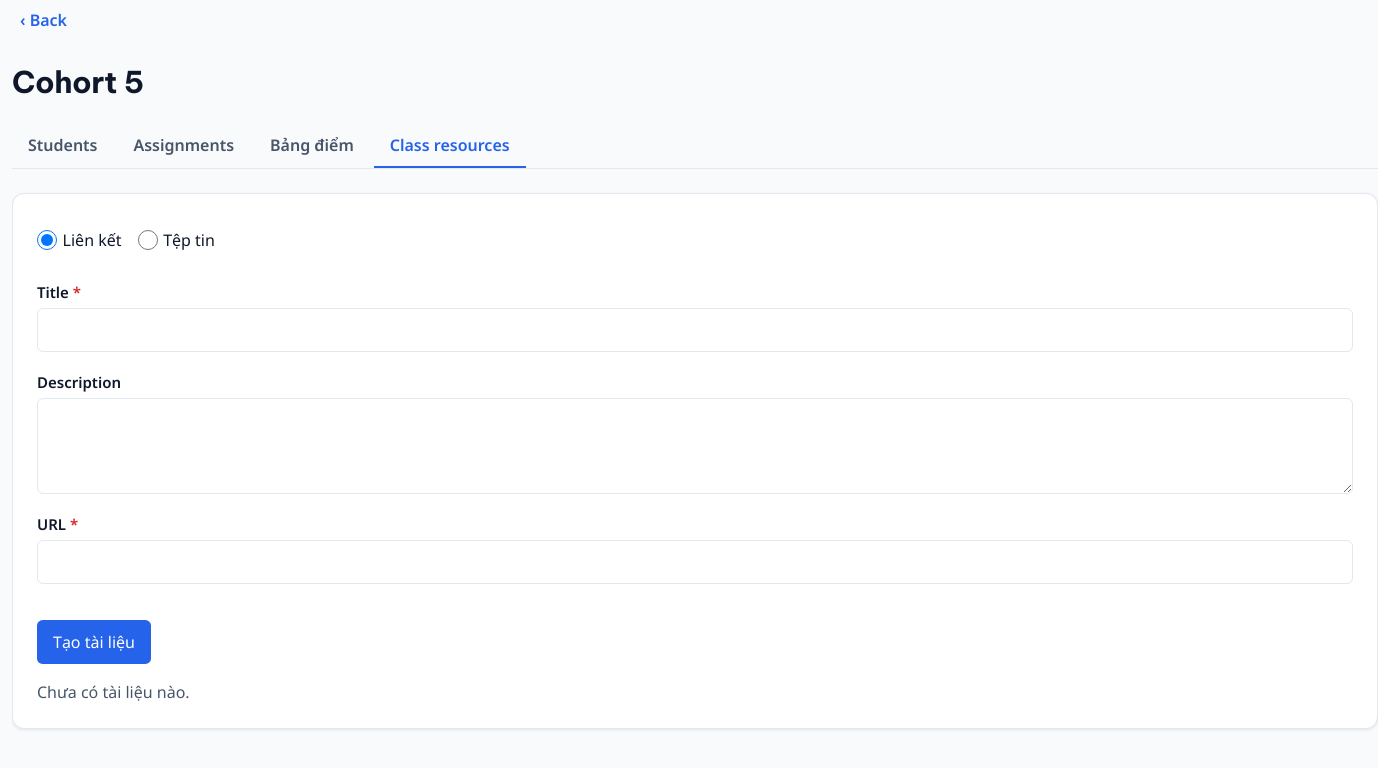
Teacher class resources › creates a resource and reloads the list
Type "Slide deck" into the field labelled "Title" at (695, 330), box top-left (37, 308), bottom-right (1353, 352)
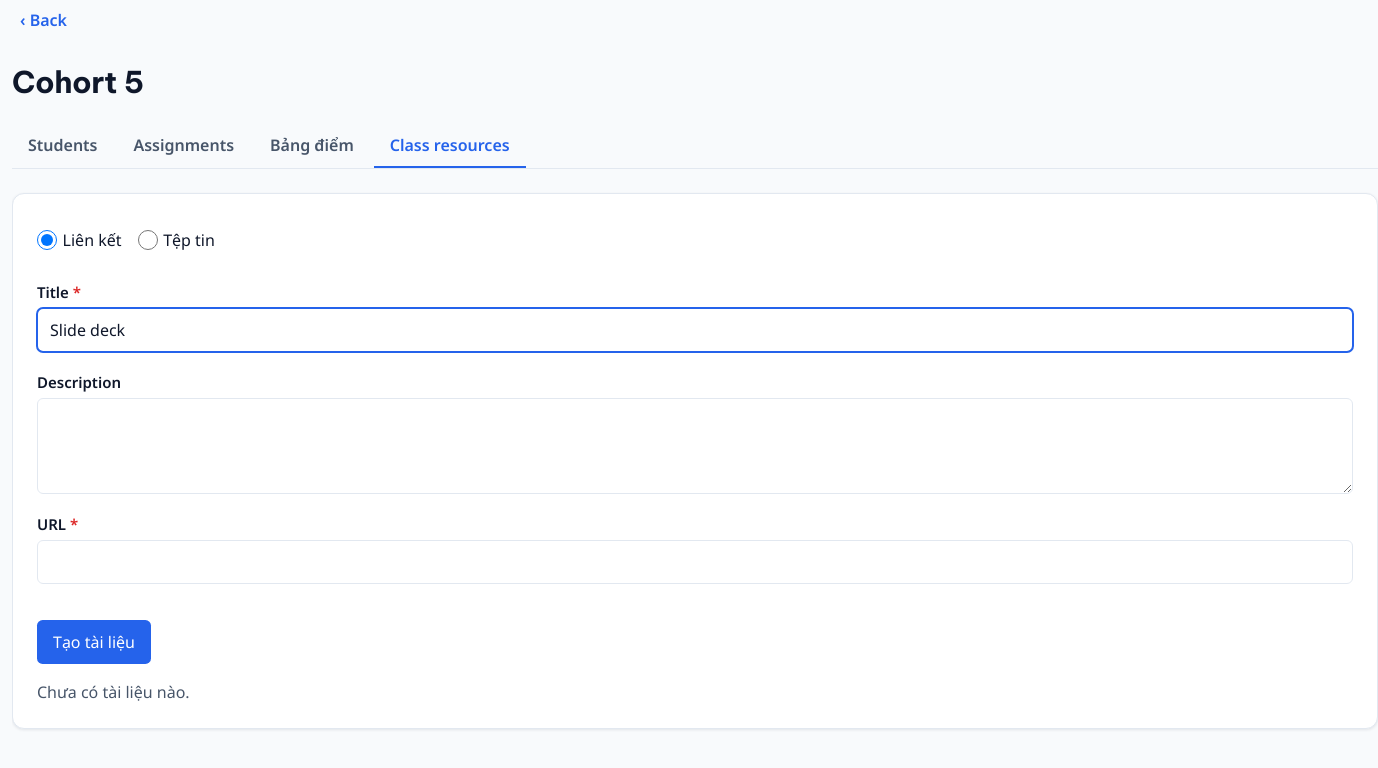
Type "https://example.test/s" into the field labelled "URL" at (695, 562), box top-left (37, 540), bottom-right (1353, 584)
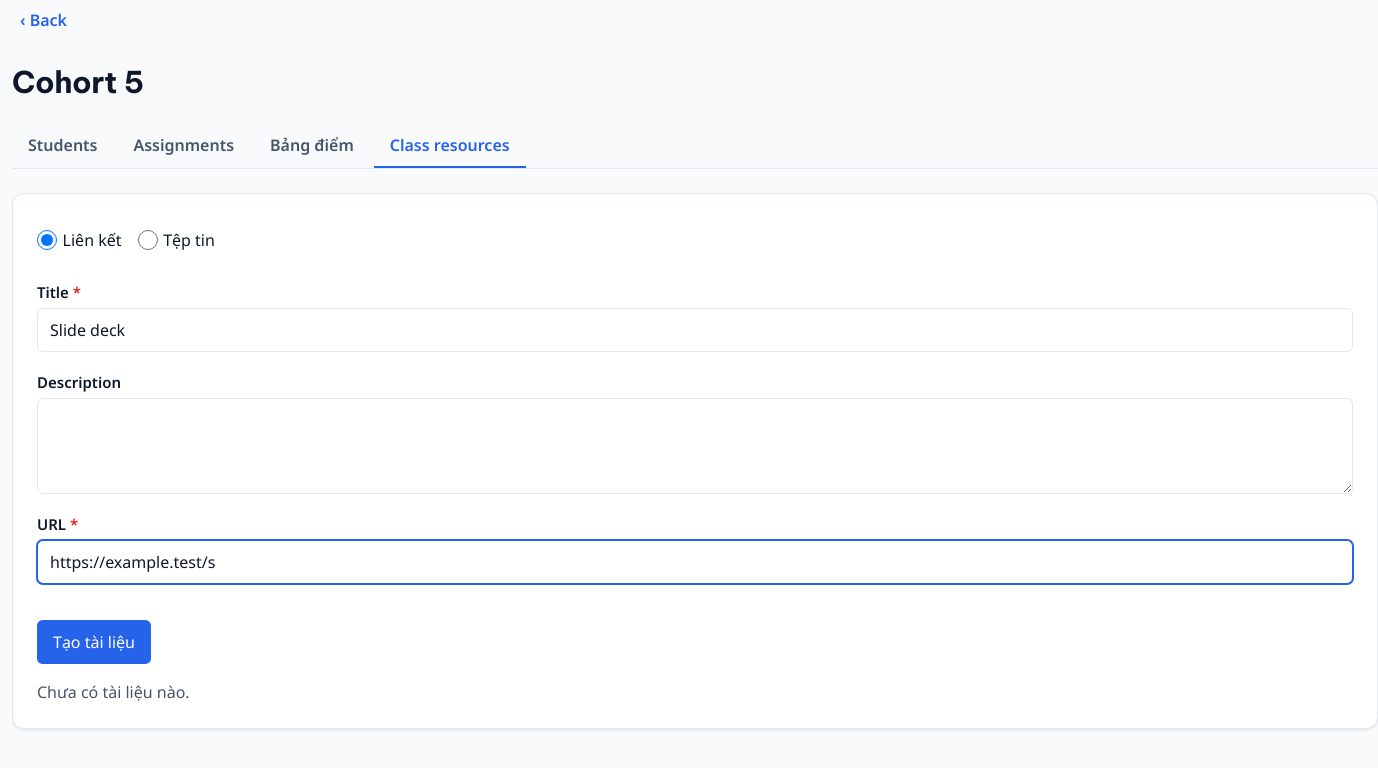
Click the button "Tạo tài liệu" at (94, 642), box top-left (37, 620), bottom-right (151, 664)
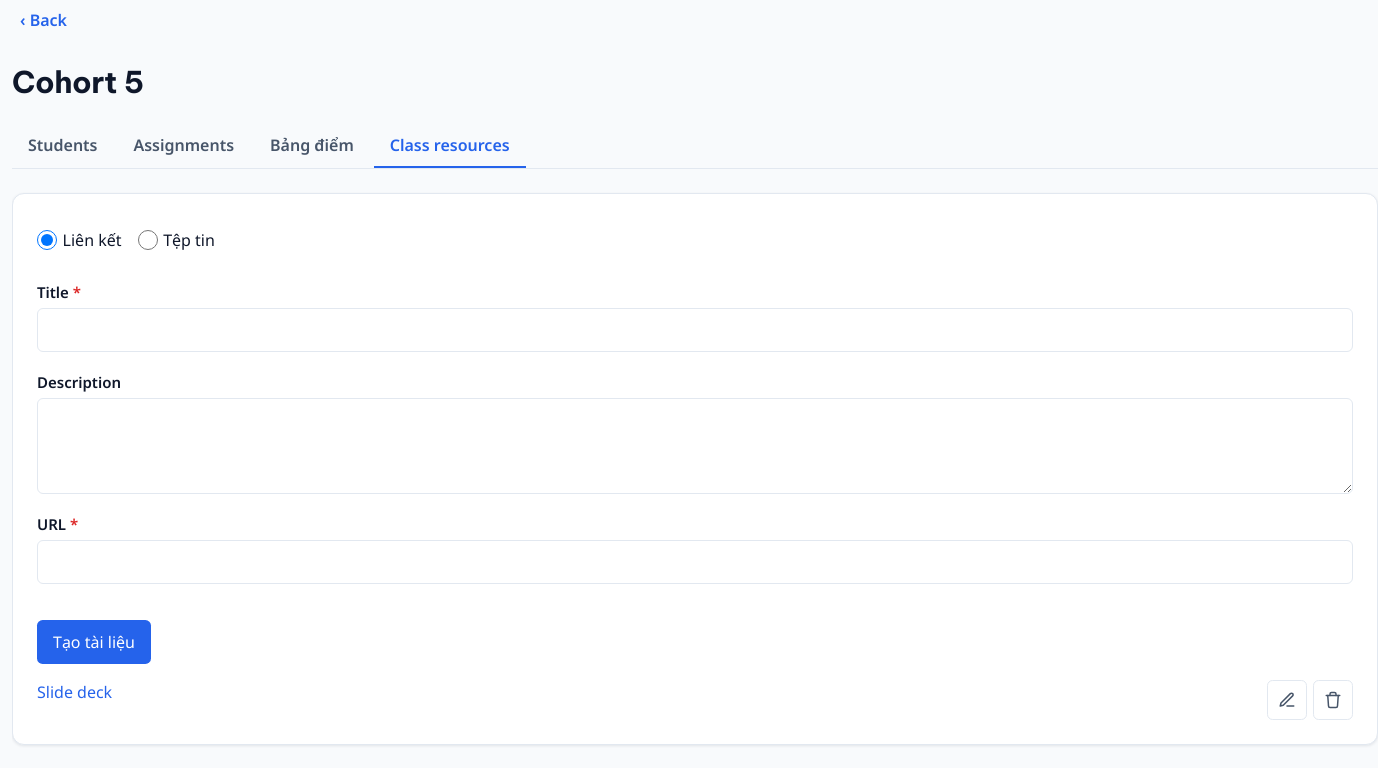
Expected: the link "Slide deck" is shown, top-left (37, 680), bottom-right (112, 702)
